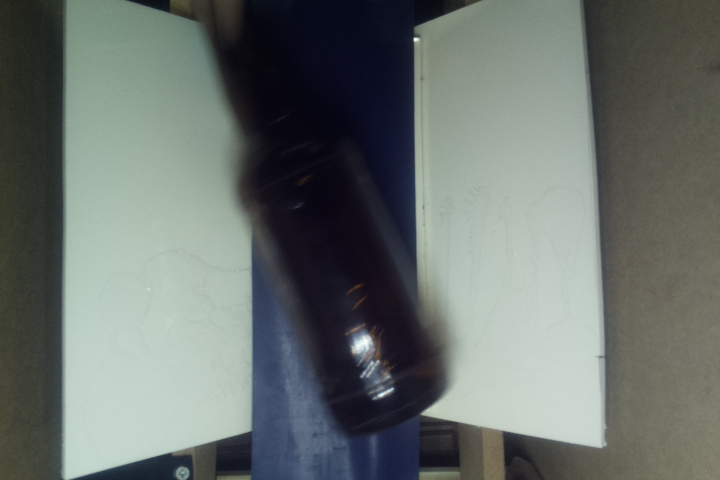makju: (187, 1, 448, 434)
